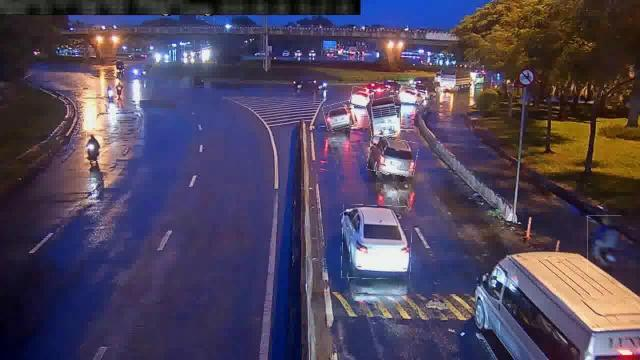Bike: (588, 216, 622, 274), (86, 132, 102, 162)
Car: (342, 205, 412, 279), (368, 137, 418, 175), (324, 102, 356, 130), (350, 87, 374, 107), (399, 87, 425, 103)
Truck: (368, 98, 398, 138)
